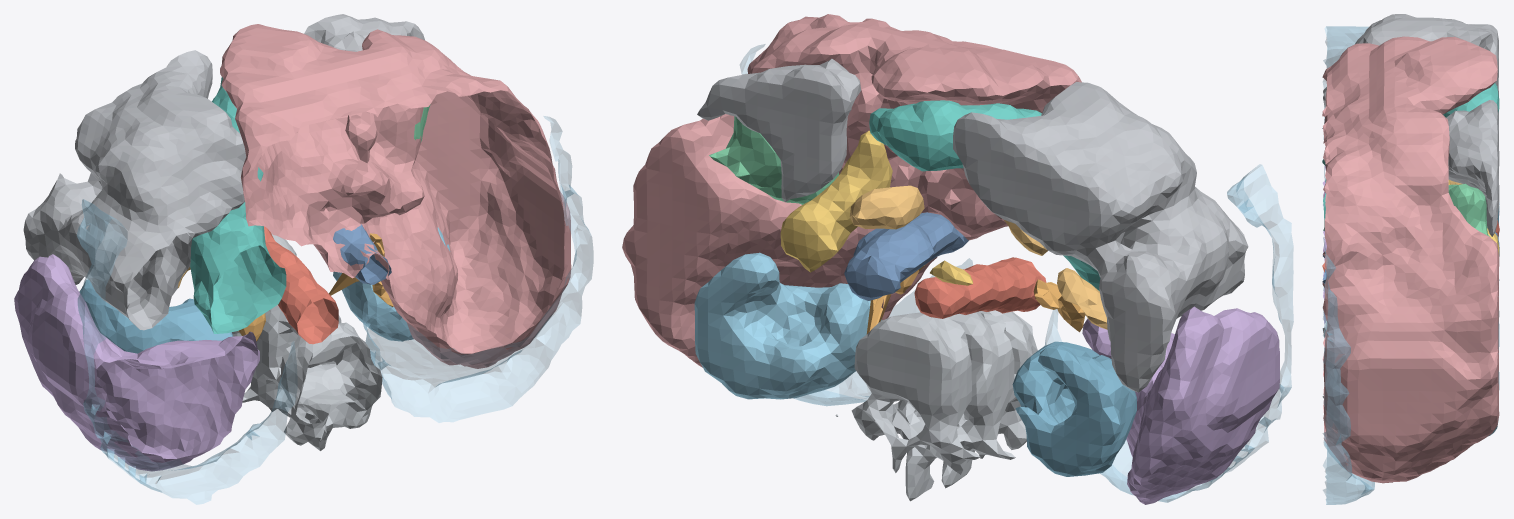
The model's file is organs.glb.
The picture shows the model from 3 angles, left to right: view 1: azimuth 30°, elevation 25°; view 2: azimuth 150°, elevation 25°; view 3: azimuth 270°, elevation 25°; orthographic projection. The views are drawn at different scales.
Parts seen in each view (by area): view 1: liver, colon, lungs, spleen, vertebra, stomach, kidney_left, aorta, kidney_right, ivc, adrenals; view 2: colon, liver, vertebra, spleen, kidney_right, kidney_left, lungs, duodenum, stomach, ivc, aorta, pancreas (+2 smaller); view 3: liver, colon, lungs, gallbladder, stomach.
Part boxes in pixels (x1,y1,x2,y2): liver: [220, 24, 571, 368]; colon: [23, 14, 424, 330]; lungs: [76, 116, 593, 504]; spleen: [14, 254, 259, 471]; vertebra: [232, 233, 382, 450]; stomach: [190, 77, 286, 333]; kidney_left: [79, 279, 233, 353]; aorta: [264, 226, 338, 344]; kidney_right: [333, 227, 450, 341]; ivc: [333, 224, 391, 284]; adrenals: [238, 233, 393, 341]; colon: [697, 58, 1248, 392]; liver: [622, 14, 1081, 367]; vertebra: [835, 310, 1037, 501]; spleen: [1082, 306, 1279, 504]; kidney_right: [694, 252, 882, 399]; kidney_left: [1012, 341, 1136, 476]; lungs: [740, 44, 1293, 502]; duodenum: [780, 130, 972, 285]; stomach: [869, 100, 1100, 290]; ivc: [844, 212, 968, 300]; aorta: [914, 257, 1046, 318]; pancreas: [849, 185, 1107, 329]; liver: [1322, 36, 1499, 483]; colon: [1322, 14, 1499, 236]; lungs: [1322, 26, 1374, 504]; gallbladder: [1448, 183, 1490, 237]; stomach: [1322, 83, 1499, 231].
Size of the model in its own units: 289 by 210 by 87.75.
